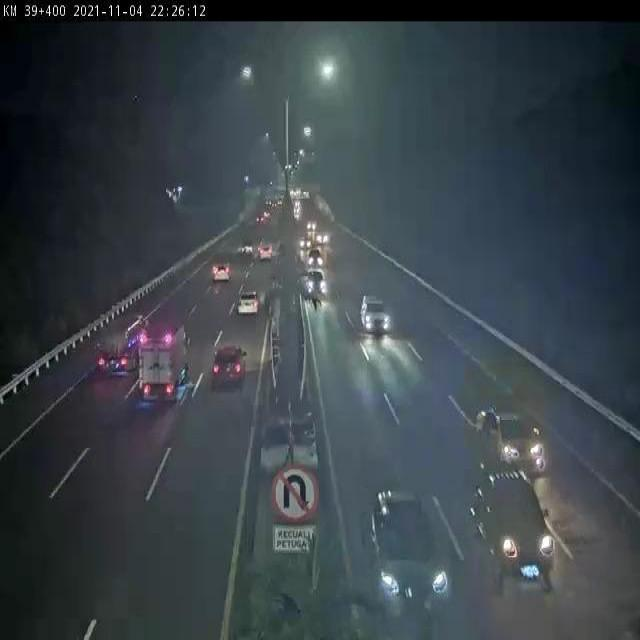car: (473, 467, 555, 588), (371, 491, 450, 613), (477, 407, 546, 472), (211, 344, 249, 393), (361, 294, 389, 334), (304, 265, 327, 303), (239, 290, 260, 322), (211, 260, 232, 285), (259, 242, 273, 262)
truck-l-: (94, 306, 137, 374)
truck-m-: (142, 329, 189, 400)
